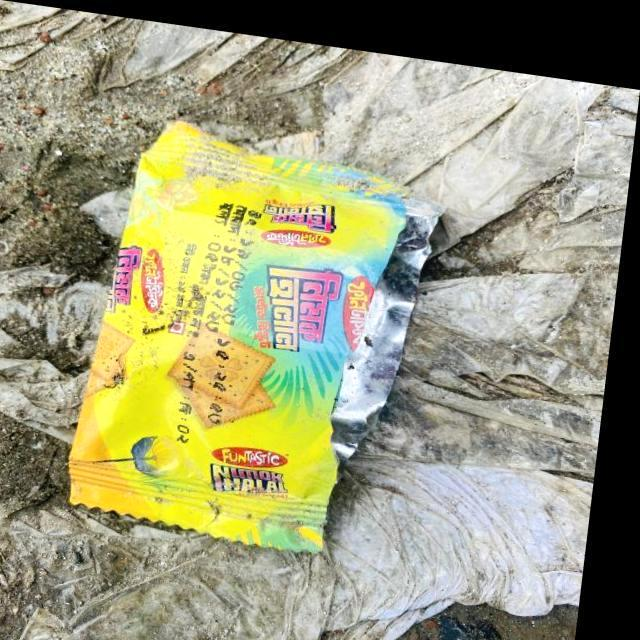packet: (78, 104, 421, 558)
